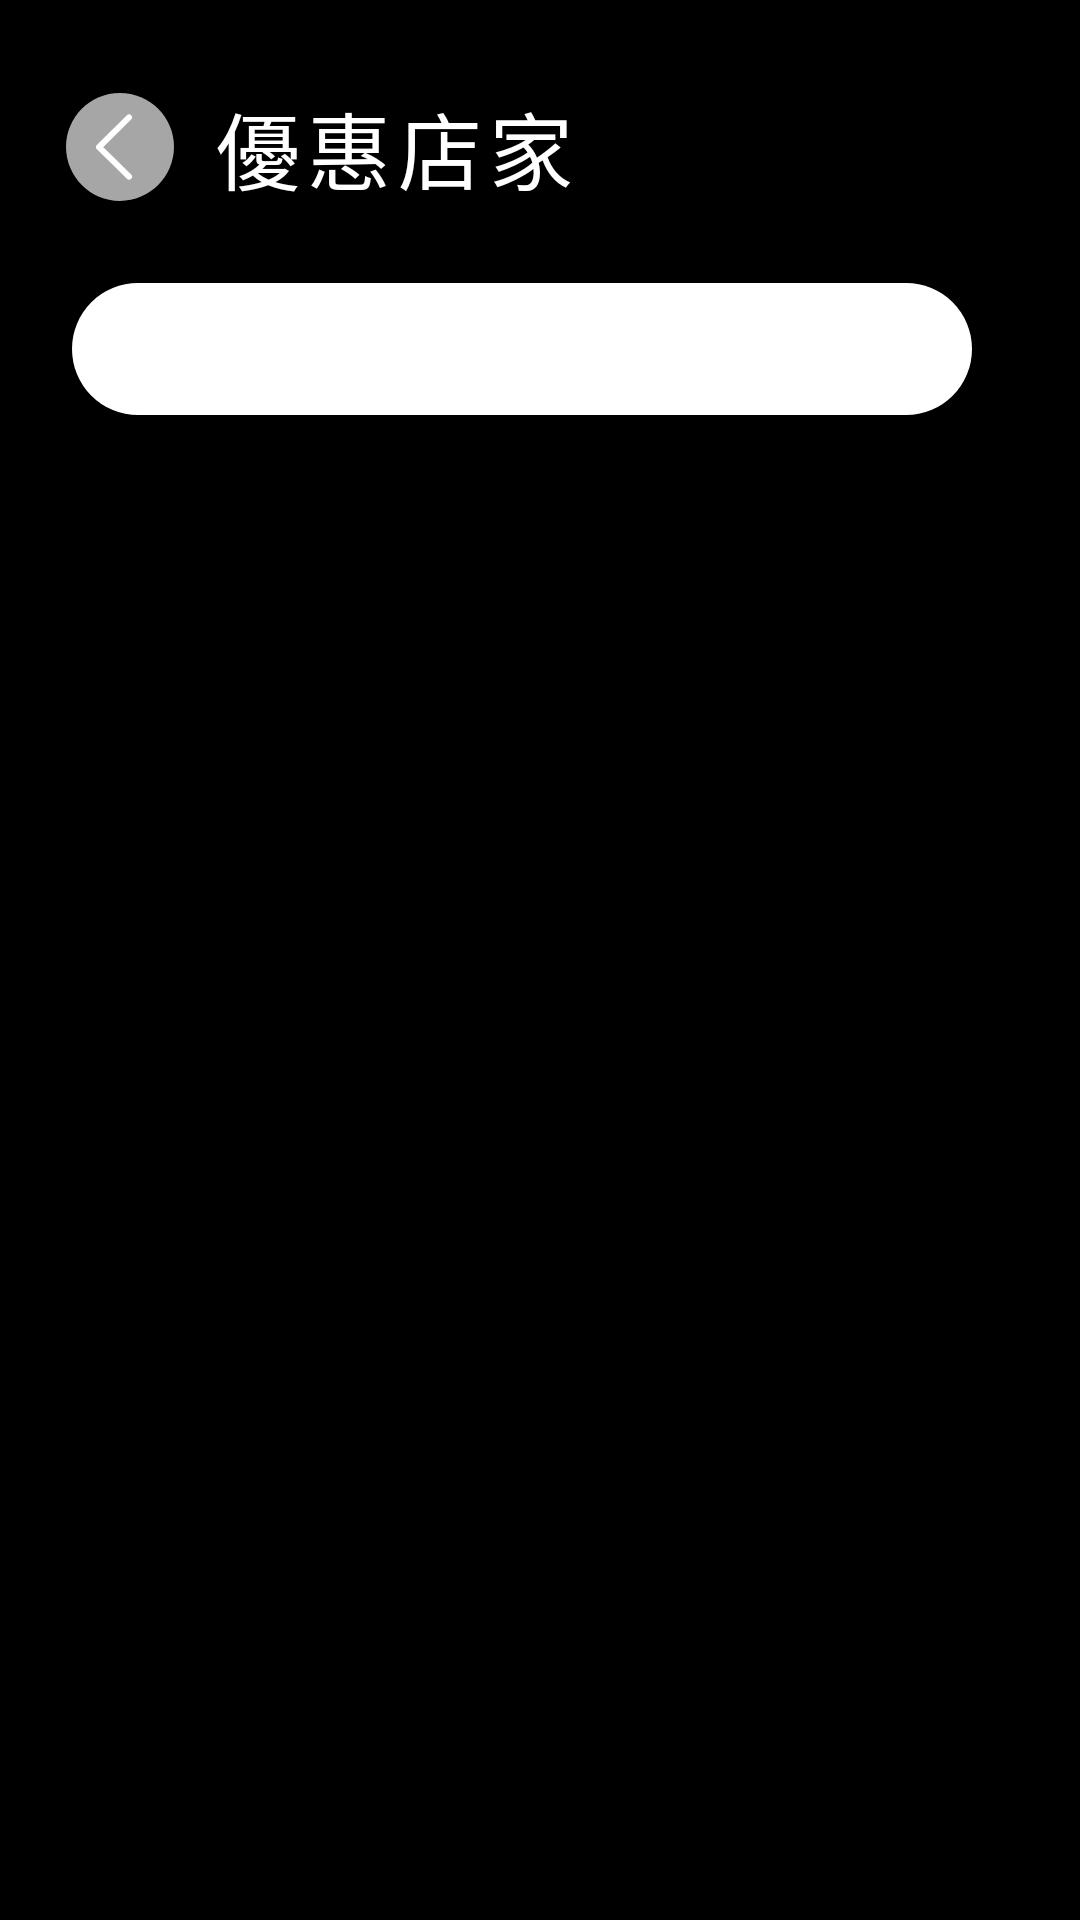

Icon bounding boxes for this 1080 × 1920 phone screenshot, format Rect(x1, y1, x2, y2):
back: Rect(66, 93, 174, 201)
